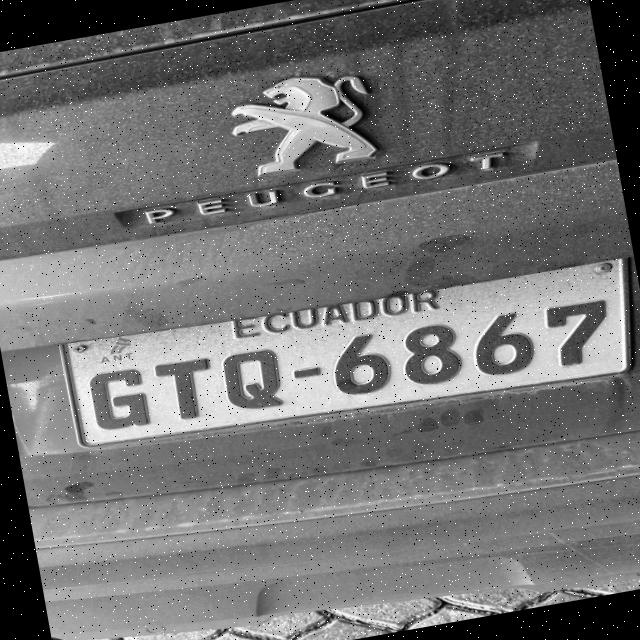Placa: (64, 260, 628, 445)
